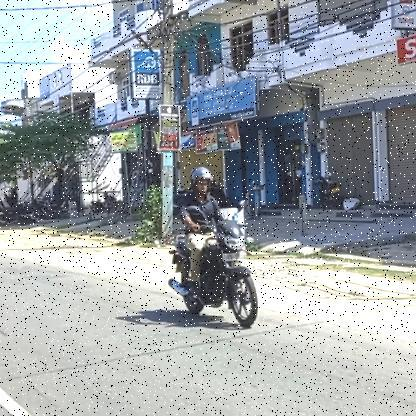motorcycle: (164, 218, 262, 330)
